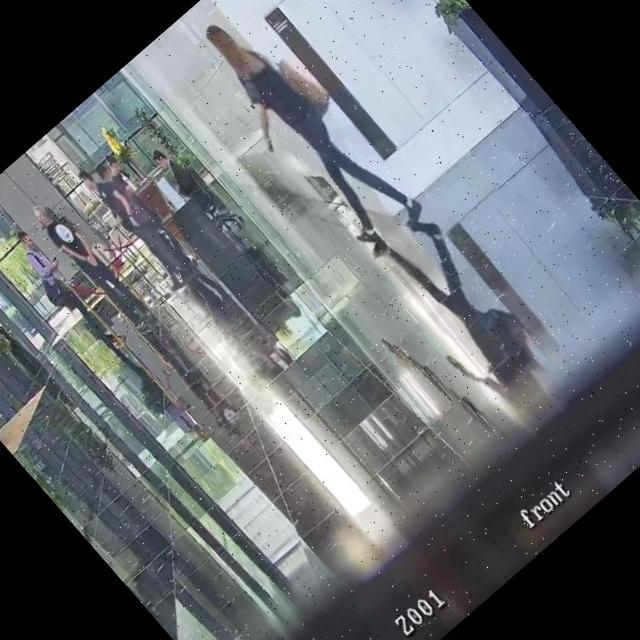person: (181, 0, 430, 266), (26, 192, 165, 346), (74, 159, 194, 292), (10, 223, 124, 350), (92, 158, 198, 276), (146, 142, 219, 221), (98, 150, 140, 195)
